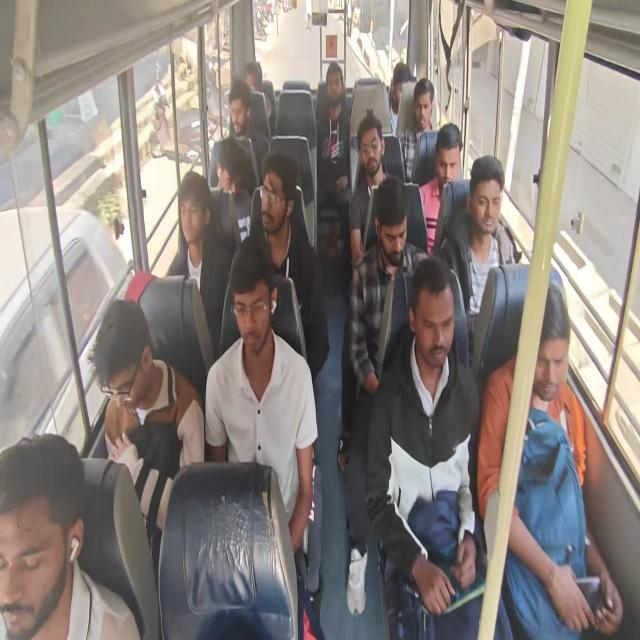person: (0, 447, 75, 640), (94, 298, 152, 414), (224, 253, 274, 356), (532, 296, 574, 412), (410, 260, 452, 368), (374, 186, 409, 260), (212, 136, 246, 205), (474, 150, 499, 242), (175, 171, 204, 245), (254, 168, 286, 231), (356, 127, 391, 177), (438, 137, 462, 188), (413, 77, 431, 137), (322, 63, 344, 110), (389, 64, 411, 108), (228, 89, 250, 132), (241, 62, 262, 91)
